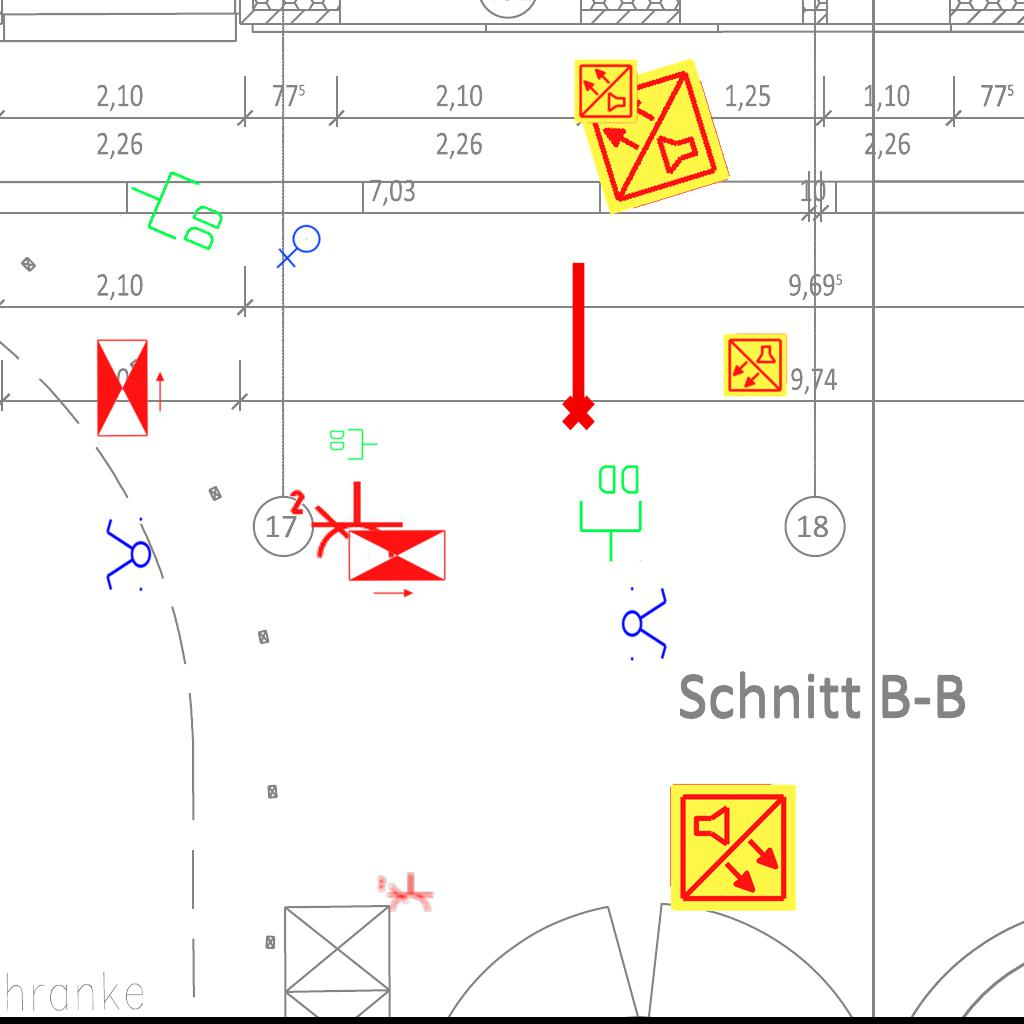ASR_Ansaugoeffnung: (553, 257, 599, 433)
Datenanschluss_zweifach: (115, 155, 238, 260), (577, 461, 646, 564), (328, 427, 379, 461)
Elektroanschluss_allgemein_230V_Geraeteanschlussdose_230V: (276, 224, 325, 271)
Fluchtwegpiktogramm: (94, 336, 167, 440), (345, 527, 449, 600)
OKW_Multisensormelder_(Kombination_optischer_Rauch-Kahlenmonoxid_Waerme-Melder): (569, 53, 735, 219), (667, 782, 799, 914), (722, 332, 788, 398), (573, 58, 639, 124)
Schukosteckdose_mehrfach: (287, 475, 408, 563), (376, 870, 436, 914)
Serienschalter: (621, 581, 669, 665), (104, 513, 152, 597)
